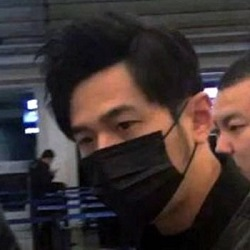mask: (78, 127, 184, 223)
